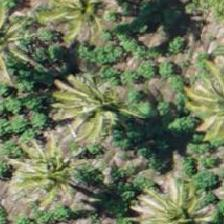coconut_tree: (45, 57, 135, 147), (4, 130, 94, 220), (31, 171, 121, 223), (137, 174, 223, 223)
